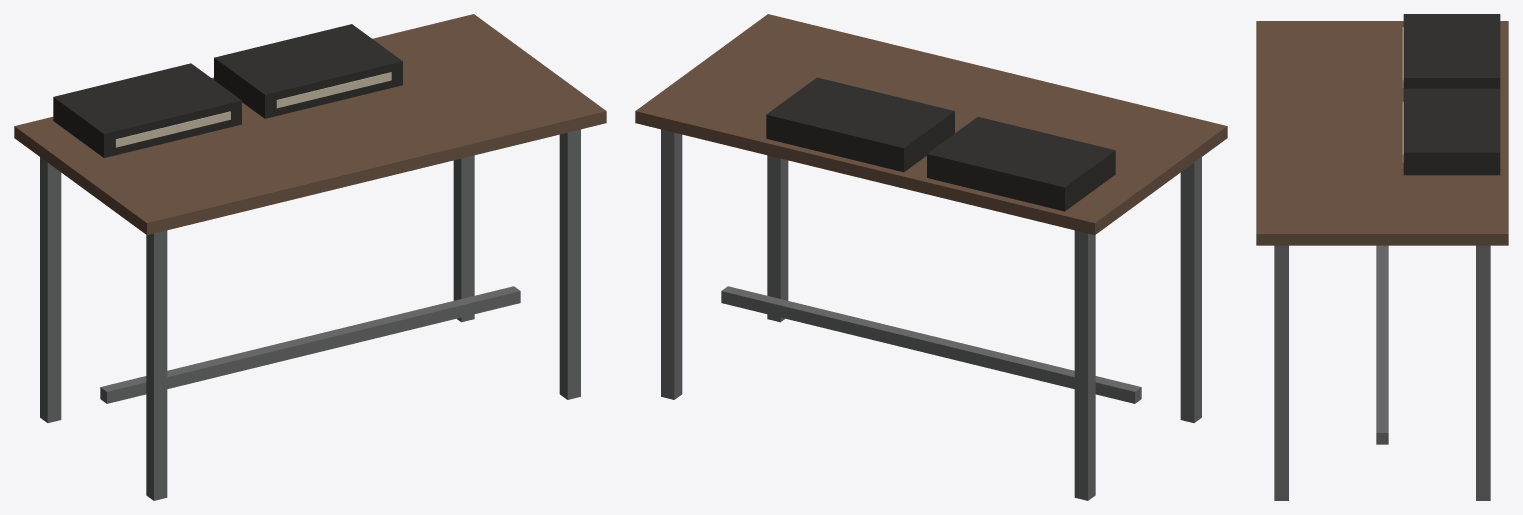
Rendered from sorting-table.glb.
The picture shows the model from 3 angles, left to right: view 1: azimuth 30°, elevation 25°; view 2: azimuth 150°, elevation 25°; view 3: azimuth 270°, elevation 25°; orthographic projection. The views are drawn at different scales.
Parts seen in each view (by area): view 1: wood, metal, plastic-dark, paper; view 2: wood, metal, plastic-dark; view 3: wood, plastic-dark, metal.
Part boxes in pixels (<box>): wood: <box>14,14,606,235</box>; metal: <box>40,129,580,500</box>; plastic-dark: <box>53,24,402,157</box>; paper: <box>115,72,391,147</box>; wood: <box>635,14,1227,235</box>; metal: <box>661,129,1201,500</box>; plastic-dark: <box>766,77,1115,211</box>; wood: <box>1256,21,1508,245</box>; plastic-dark: <box>1403,14,1500,175</box>; metal: <box>1274,245,1490,500</box>.
Bounding box in the file's own units: 1.2 × 0.78 × 0.6.
